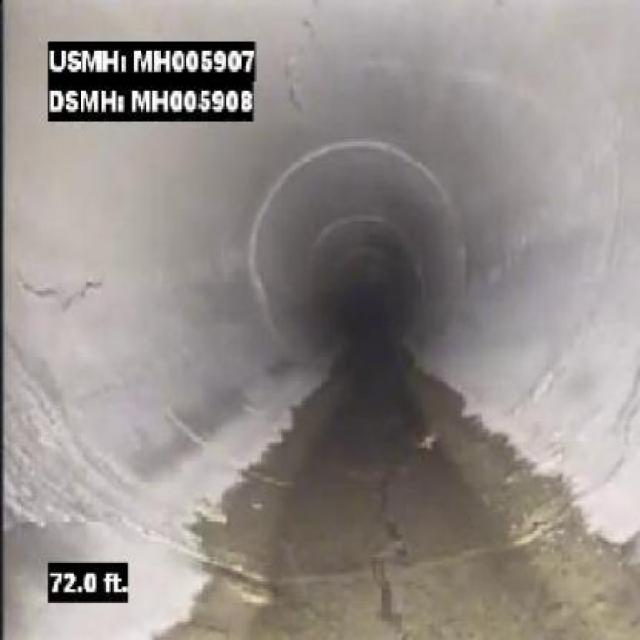Crack: (370, 471, 416, 638), (19, 272, 106, 316), (286, 14, 323, 117)
